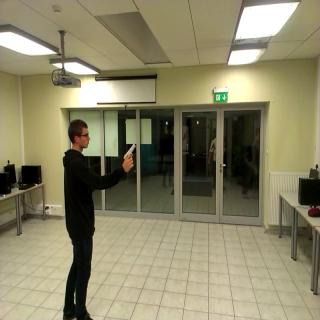gun: (118, 139, 138, 167)
